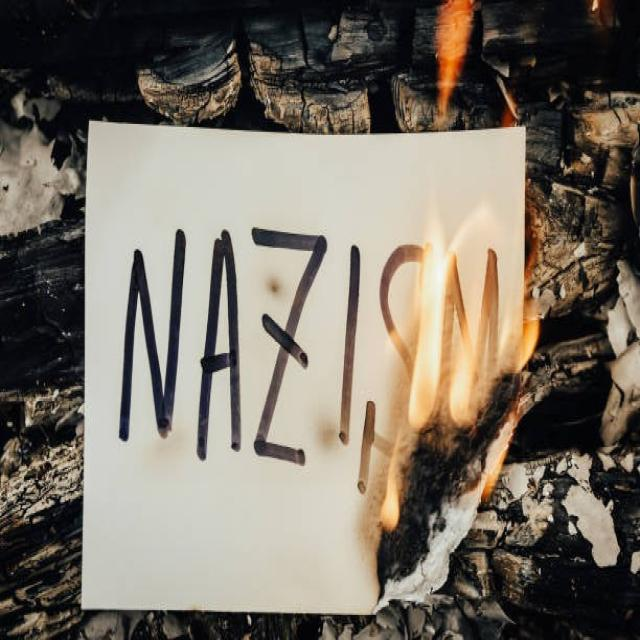fire: (450, 298, 540, 427), (411, 240, 456, 428), (435, 0, 478, 128), (481, 392, 523, 501), (380, 438, 399, 532)
